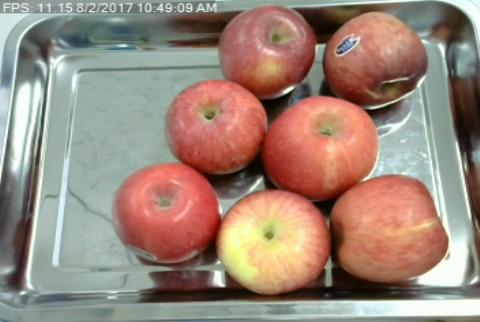apple: (331, 174, 451, 282), (218, 190, 330, 295), (112, 162, 222, 263), (263, 97, 376, 192), (325, 12, 427, 106), (166, 80, 265, 172), (219, 5, 316, 95)
